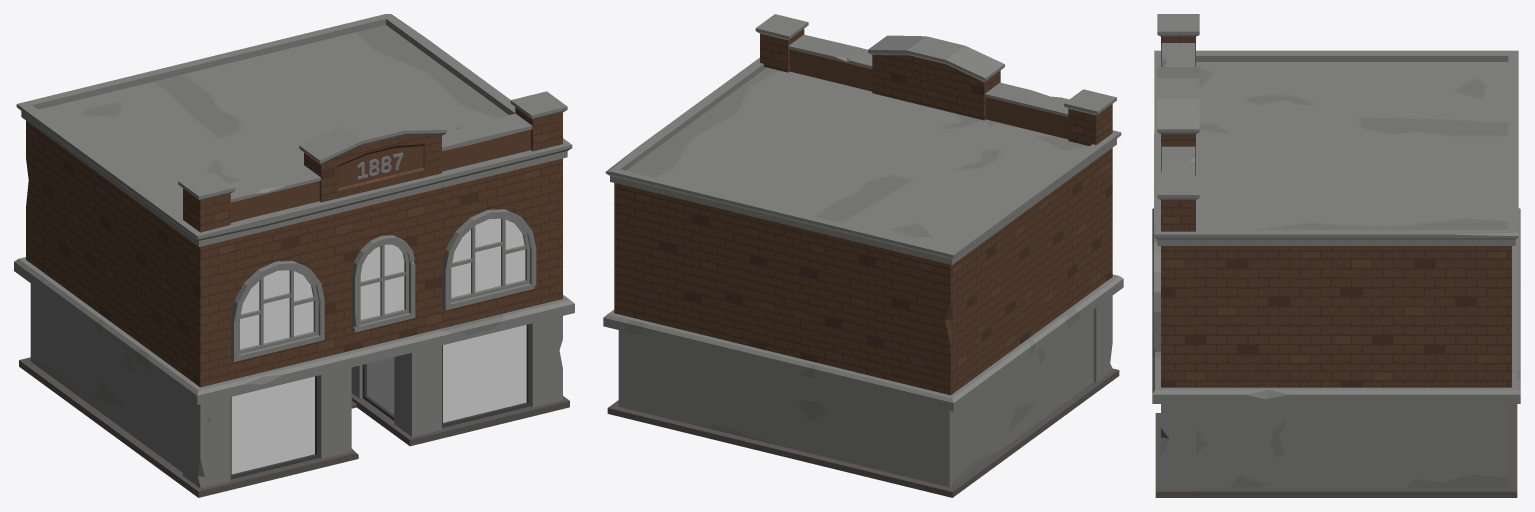
File: SM_Bldg_City_Generic_02.fbx
The picture shows the model from 3 angles, left to right: view 1: azimuth 30°, elevation 25°; view 2: azimuth 150°, elevation 25°; view 3: azimuth 270°, elevation 25°; orthographic projection. The views are drawn at different scales.
Visible parts, largest first — view 1: SM_Bldg_City_Generic_02, SM_Bldg_City_Generic_02_Glass; view 2: SM_Bldg_City_Generic_02; view 3: SM_Bldg_City_Generic_02.
Part boxes in pixels (box(x1,y1,x2,y2)): SM_Bldg_City_Generic_02: box(14, 14, 574, 497); SM_Bldg_City_Generic_02_Glass: box(231, 218, 526, 474); SM_Bldg_City_Generic_02: box(603, 14, 1123, 497); SM_Bldg_City_Generic_02: box(1152, 14, 1520, 497).
Size of the model in its own units: 1250 by 1000 by 1050.
